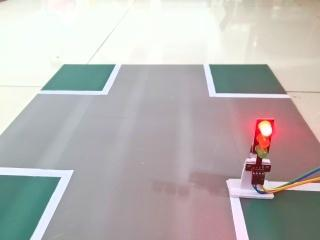red: (247, 109, 277, 183)
